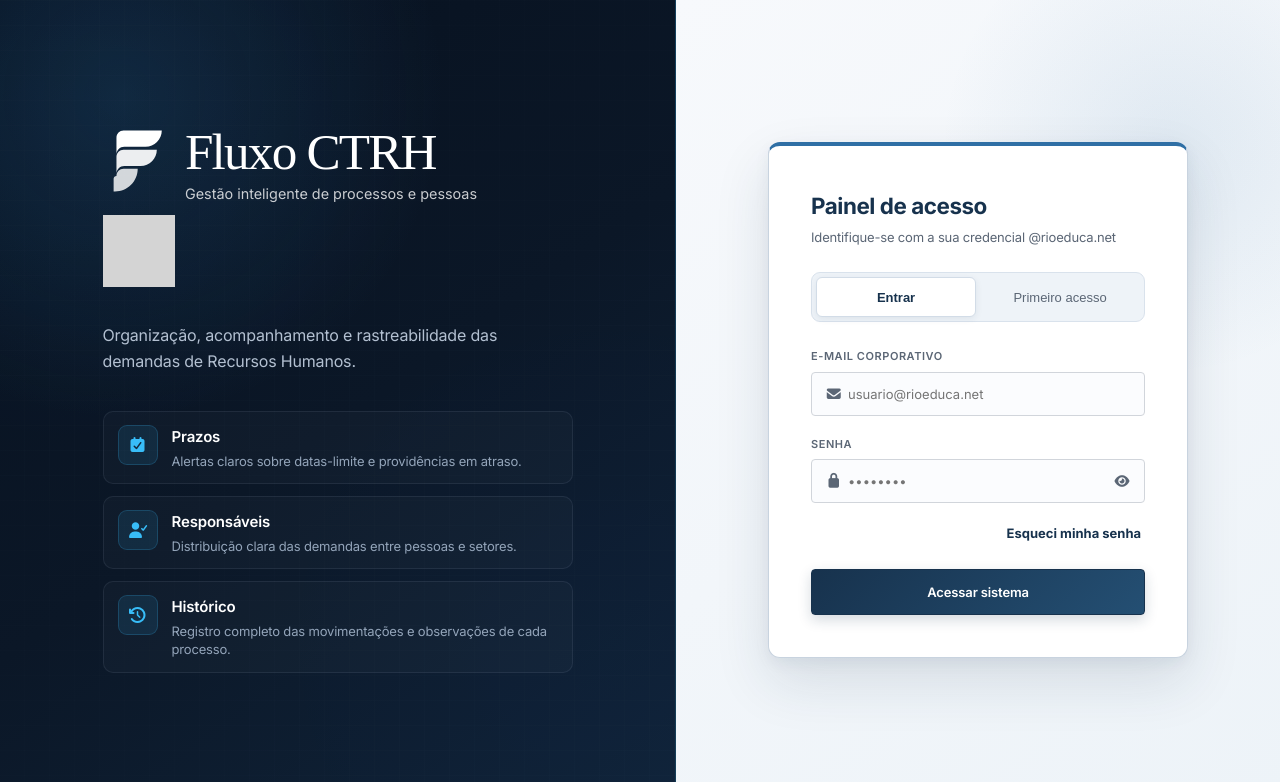
it: App no modo Supabase › atualiza os indicadores e seus filtros conforme a carteira ativa
The width and height of the screenshot is (1280, 782).
Type "teste@rioeduca.net" into the field with placeholder "usuario@rioeduca.net" at (978, 394), box [811,372,1145,416]
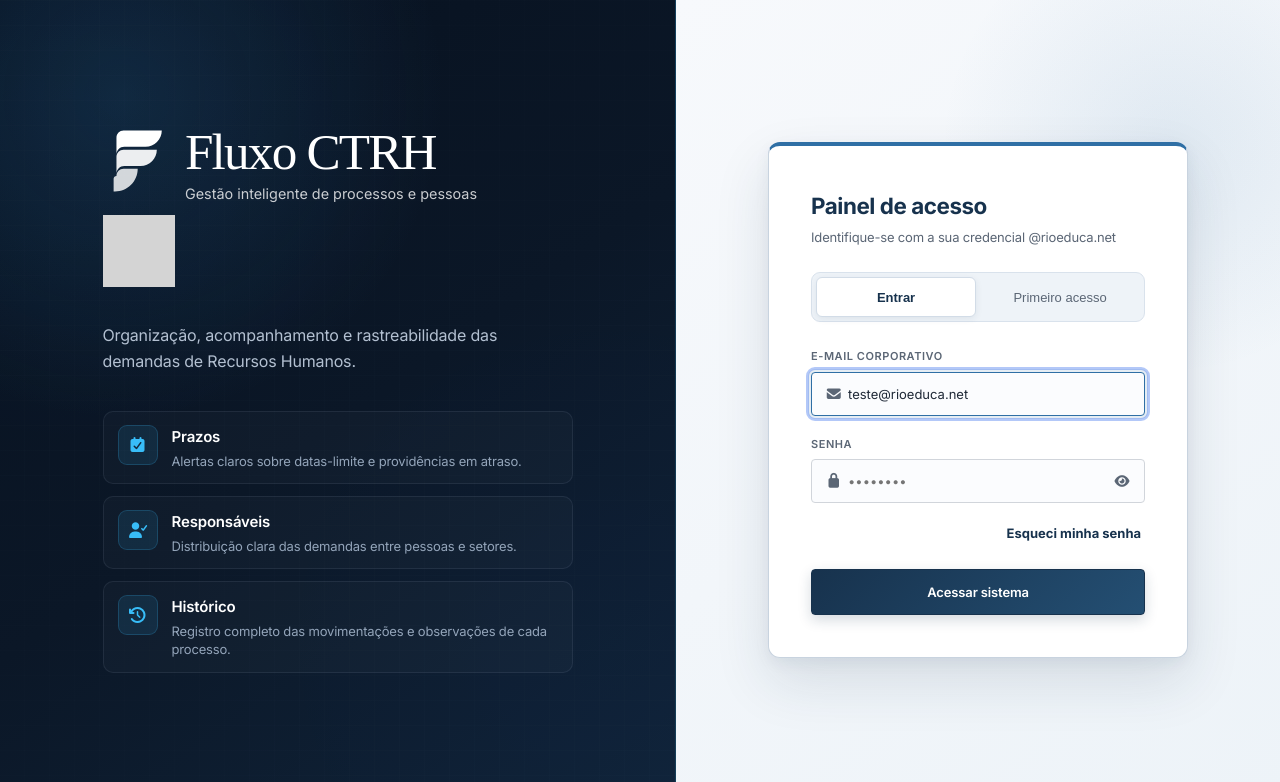
Type "senha-remota-teste" into the password field with placeholder "••••••••" at (978, 482), box [811,460,1145,504]
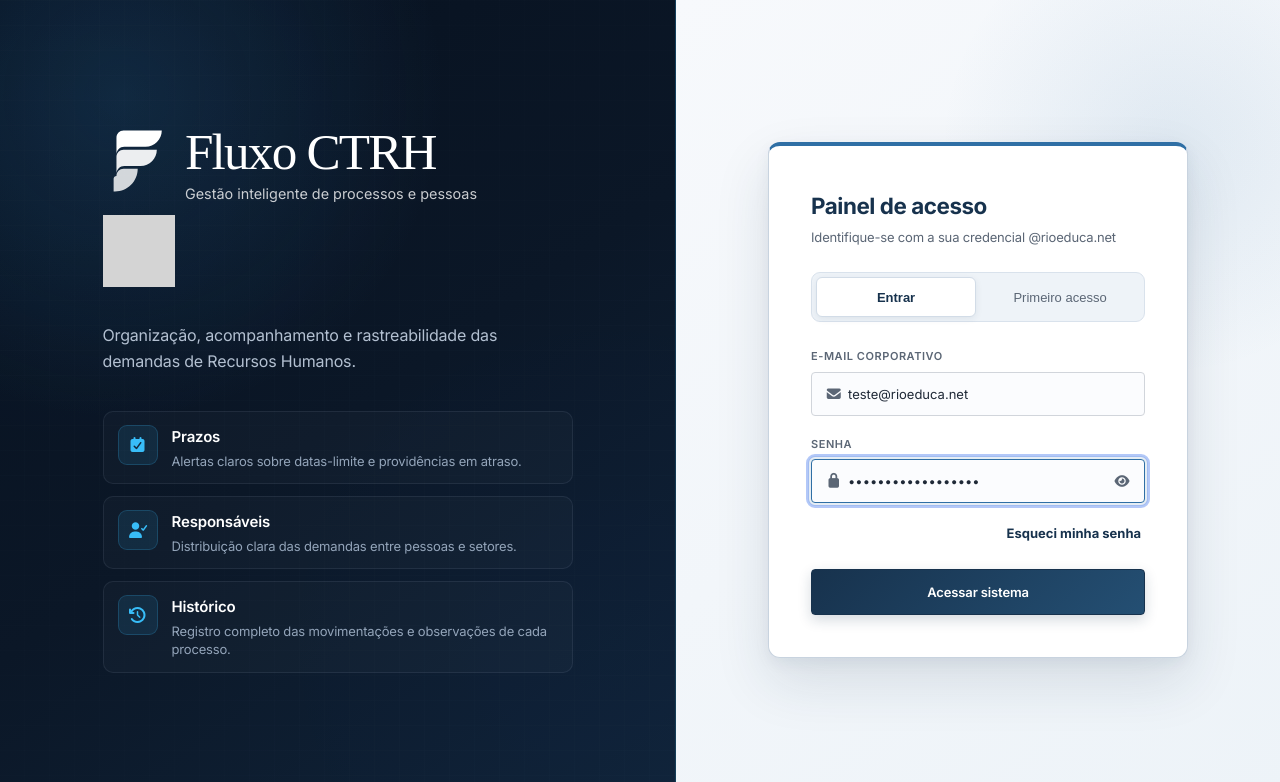
Click the button "Acessar sistema" at (978, 592), box [811,570,1145,616]
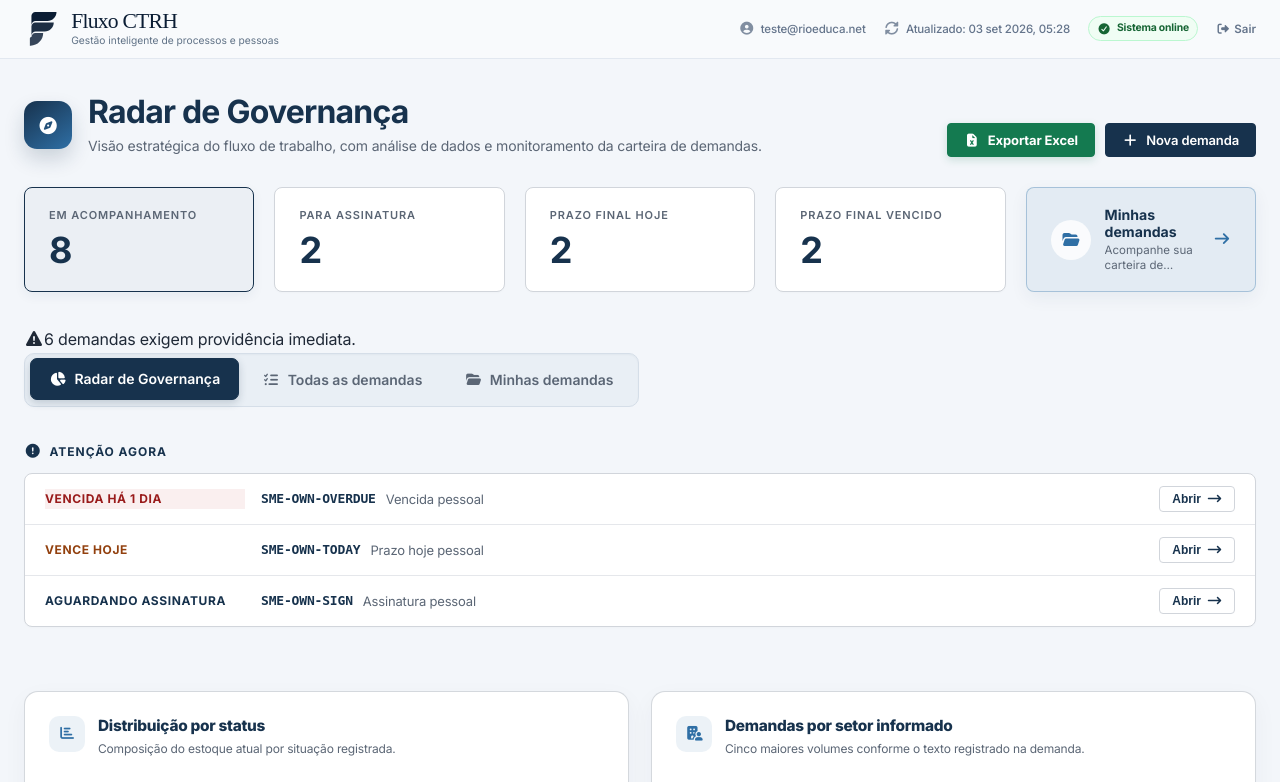
expect the text "8" is shown: met, box [49,228,71,272]
expect the 1st text "2" is shown: met, box [299,228,321,272]
expect the 2nd text "2" is shown: met, box [550,228,571,272]
Click the button "Minhas demandas" at (539, 380), box [445,359,632,401]
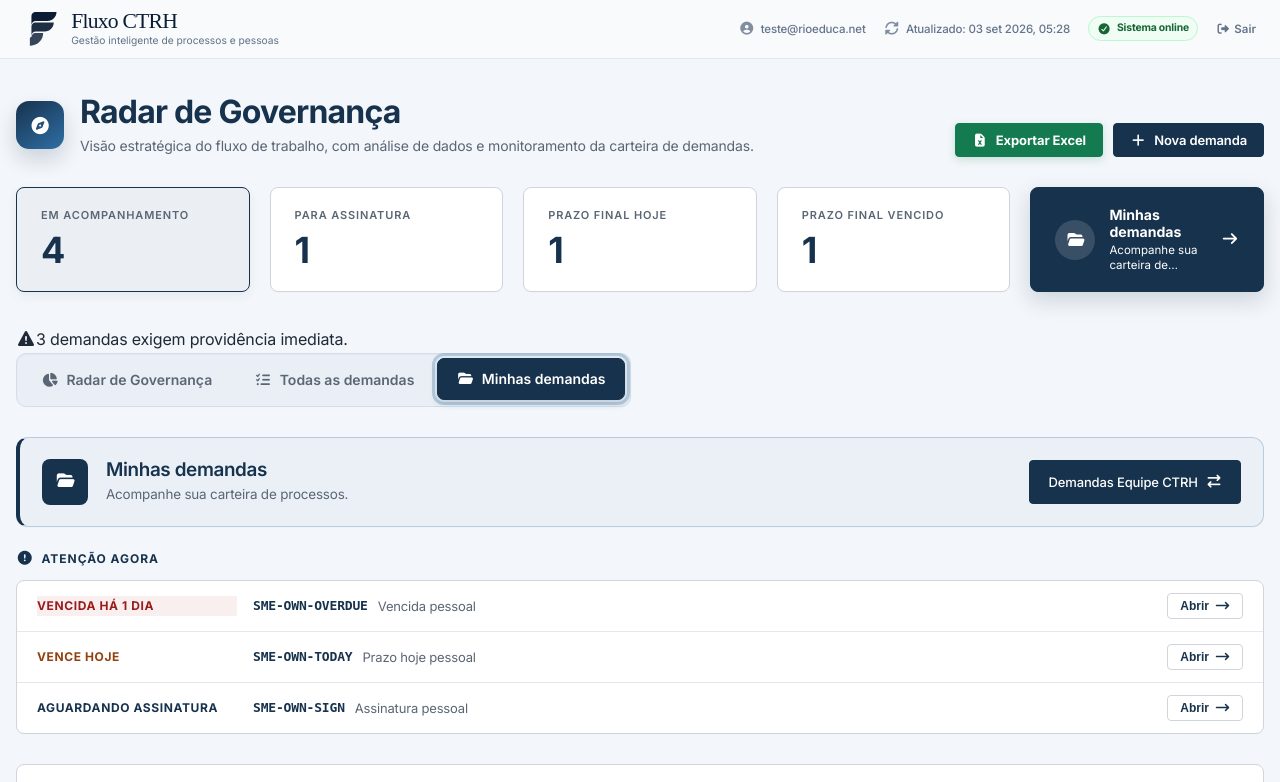
expect the text "4" is shown: met, box [41,228,64,272]
expect the 1st text "1" is shown: met, box [295,228,309,272]
expect the 2nd text "1" is shown: met, box [548,228,563,272]
Click the button titled "Filtrar por demandas aguardando assinatura" at (386, 240), box [270,187,503,292]
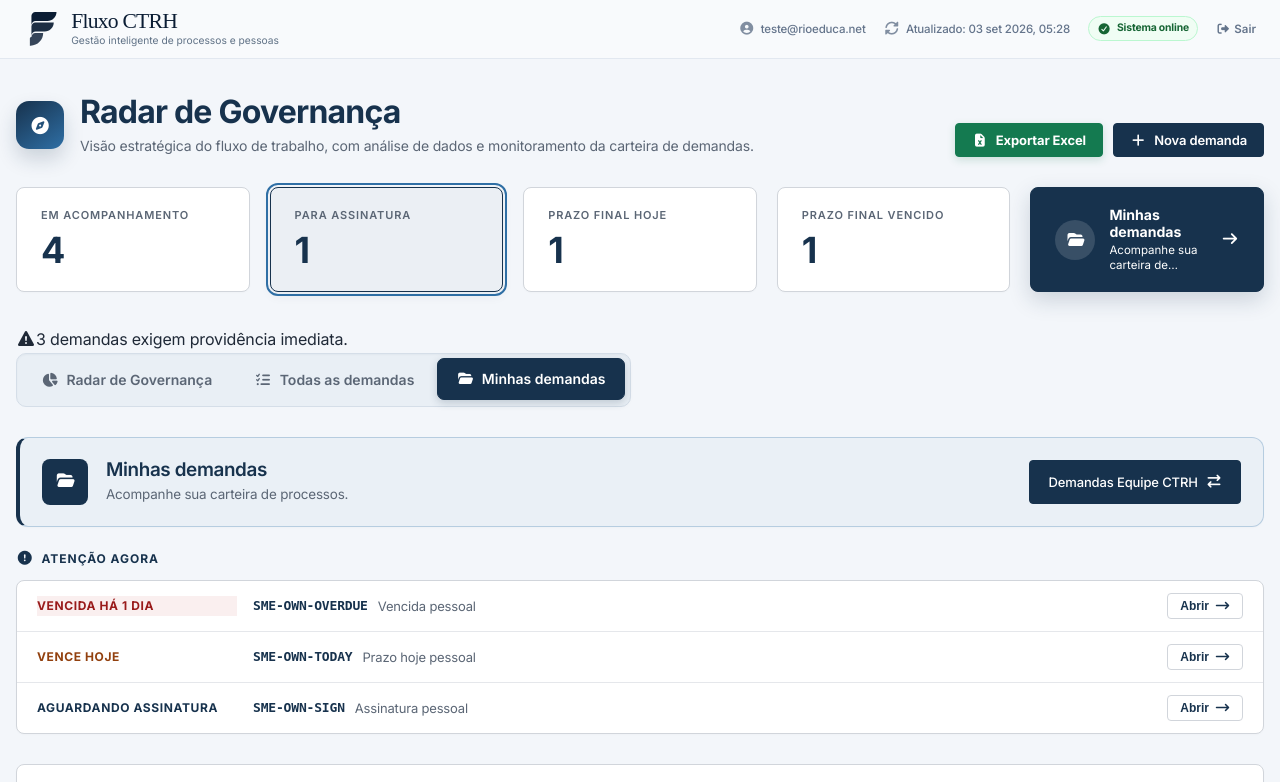
expect the text "Assinatura pessoal" is shown: met, box [355,698,468,718]
Click the button "Demandas Equipe CTRH" at (1135, 482), box [1030,460,1241,504]
(page scrolled)
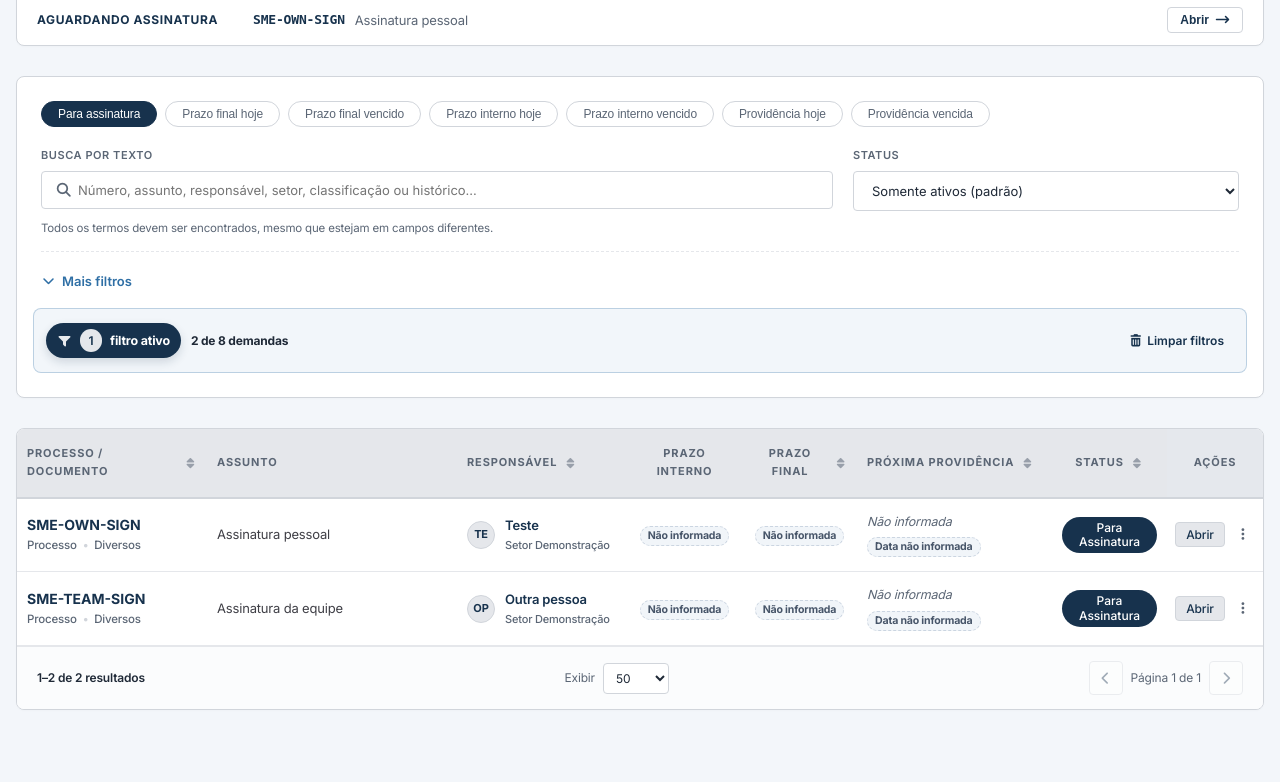
expect the text "Assinatura da equipe" is shown: met, box [217,600,343,616]
